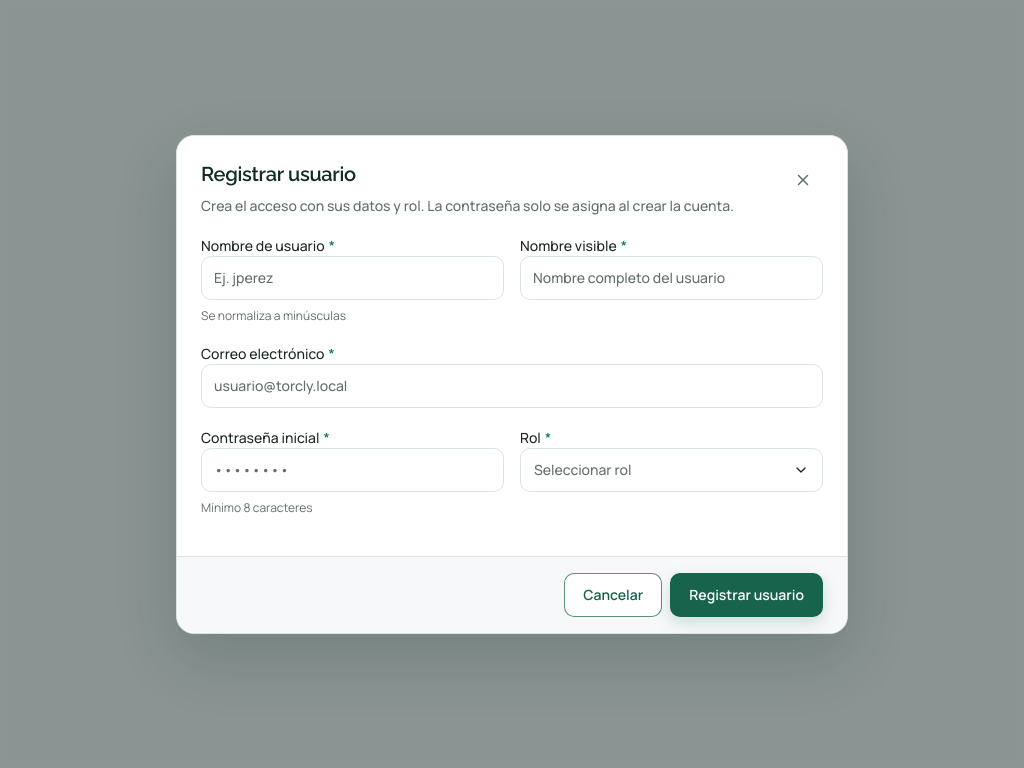
Formulario de usuarios › valida el formulario de creación sin enviar campos vacíos
This screenshot has width=1024, height=768.
Click the button "Registrar usuario": (747, 594) [670,572,823,616]
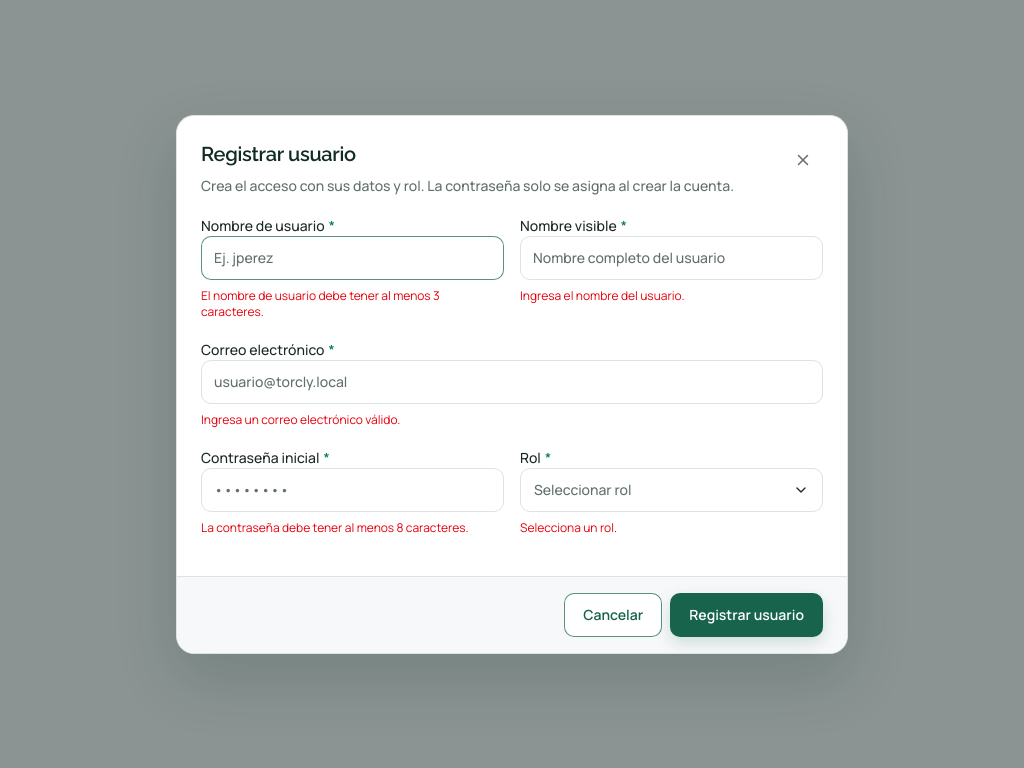
Now the text "El nombre de usuario debe tener al menos 3 caracteres." is shown, box [201,286,440,320]
Now the text "Ingresa un correo electrónico válido." is shown, box [201,410,400,428]
Now the text "Selecciona un rol." is shown, box [520,518,617,536]
